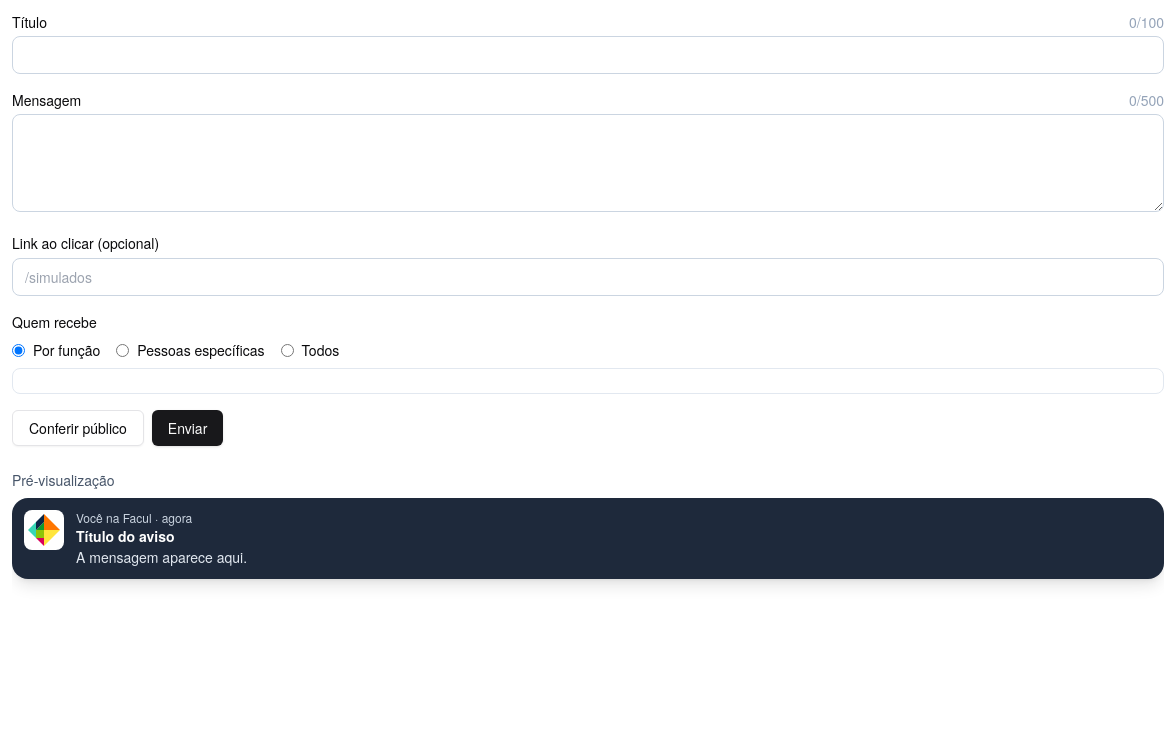
it: NovaNotificacao › Conferir público mostra os números da api
Type "Simulado liberado" into the field labelled "Título 0/100".
click(588, 55); type("Simulado liberado")  # box [12,36,1164,74]
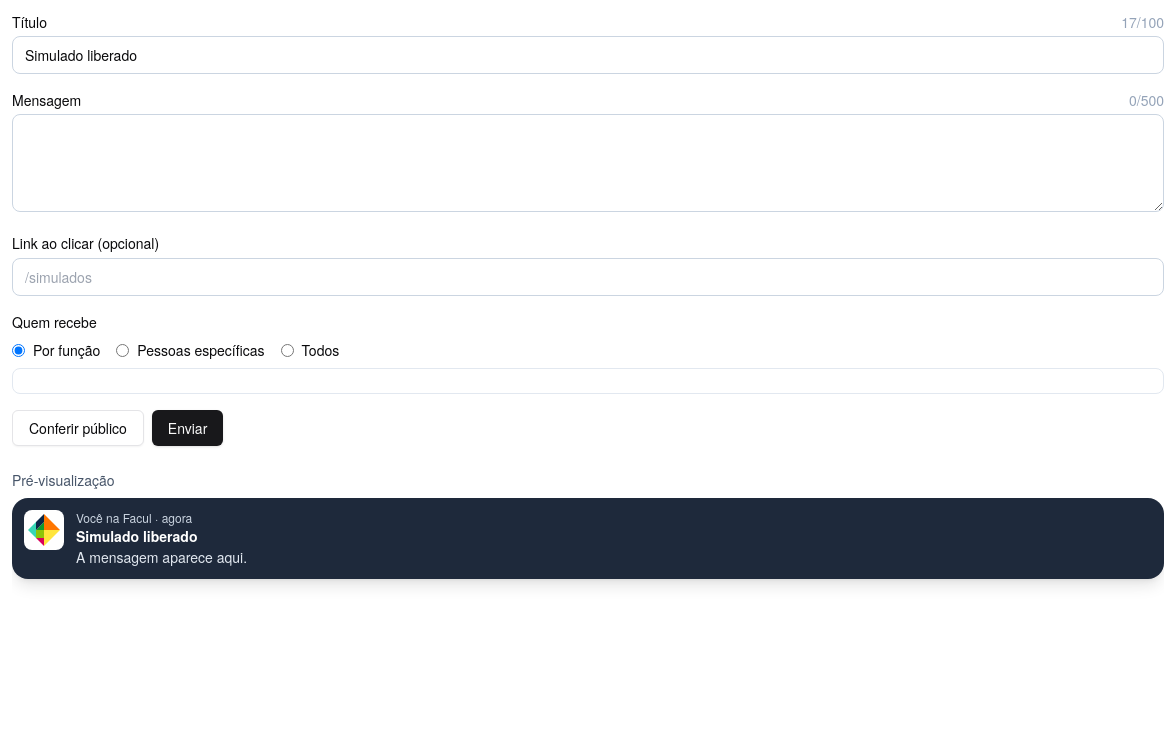
Type "O simulado de sábado já está no ar." into the text box labelled "Mensagem 0/500".
click(588, 163); type("O simulado de sábado já está no ar.")  # box [12,114,1164,212]
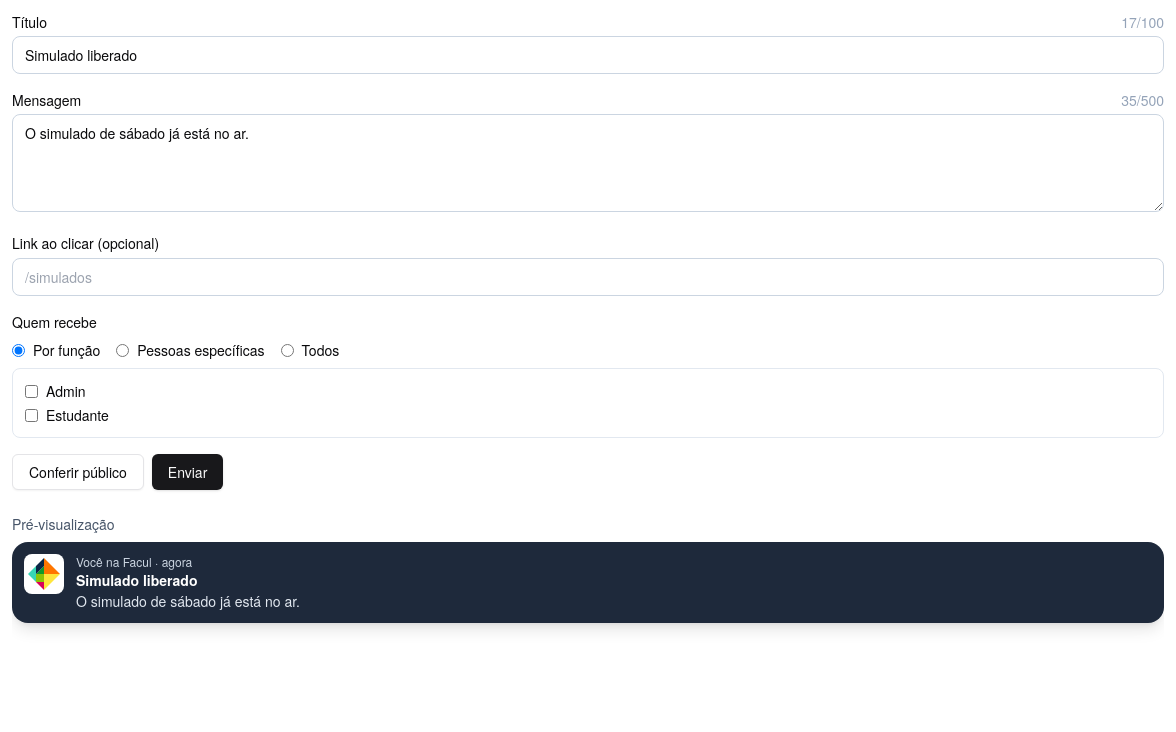
Click the checkbox labelled "Admin".
click(32, 391)  # box [25,384,38,398]
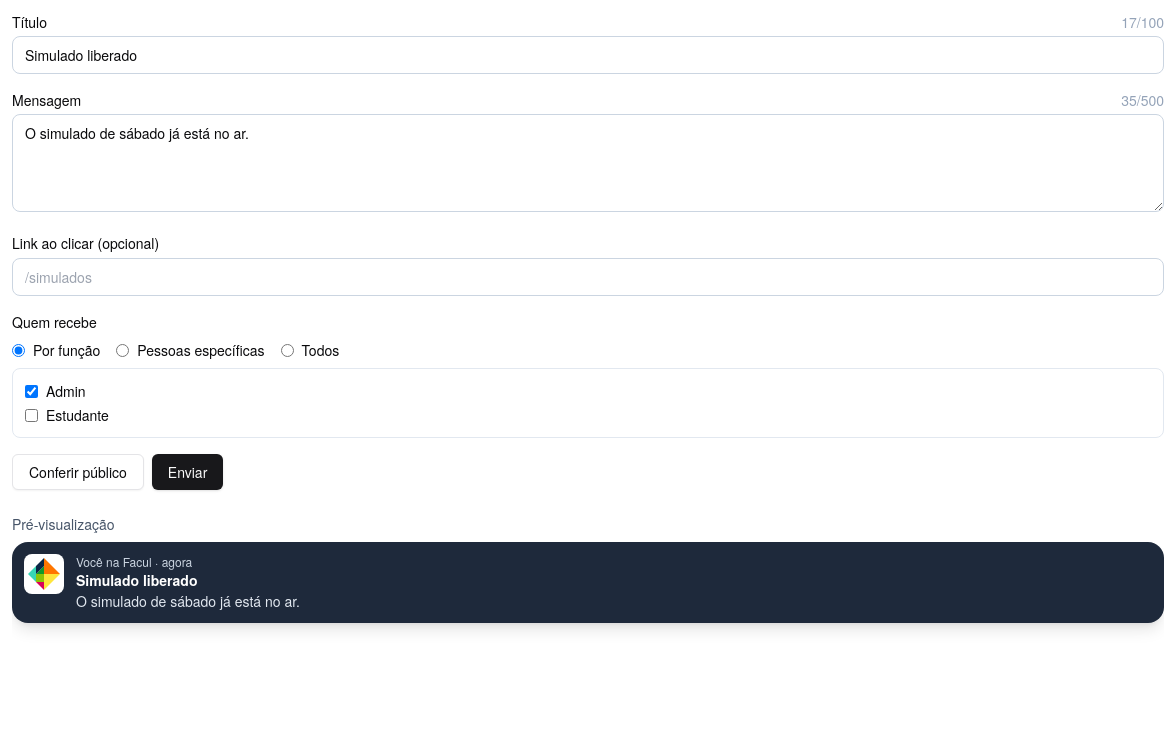
Click the button "Conferir público".
click(78, 472)  # box [12,454,144,490]
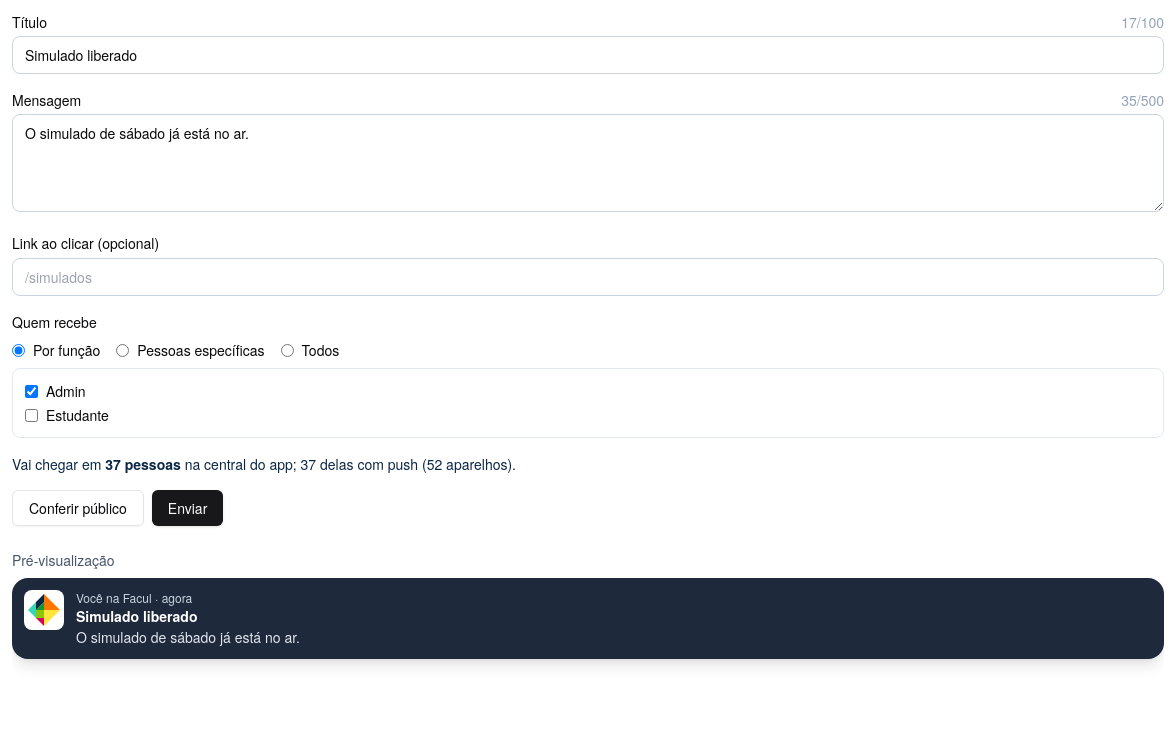
Now the text "37 pessoas" is shown, box [105,454,181,474]
